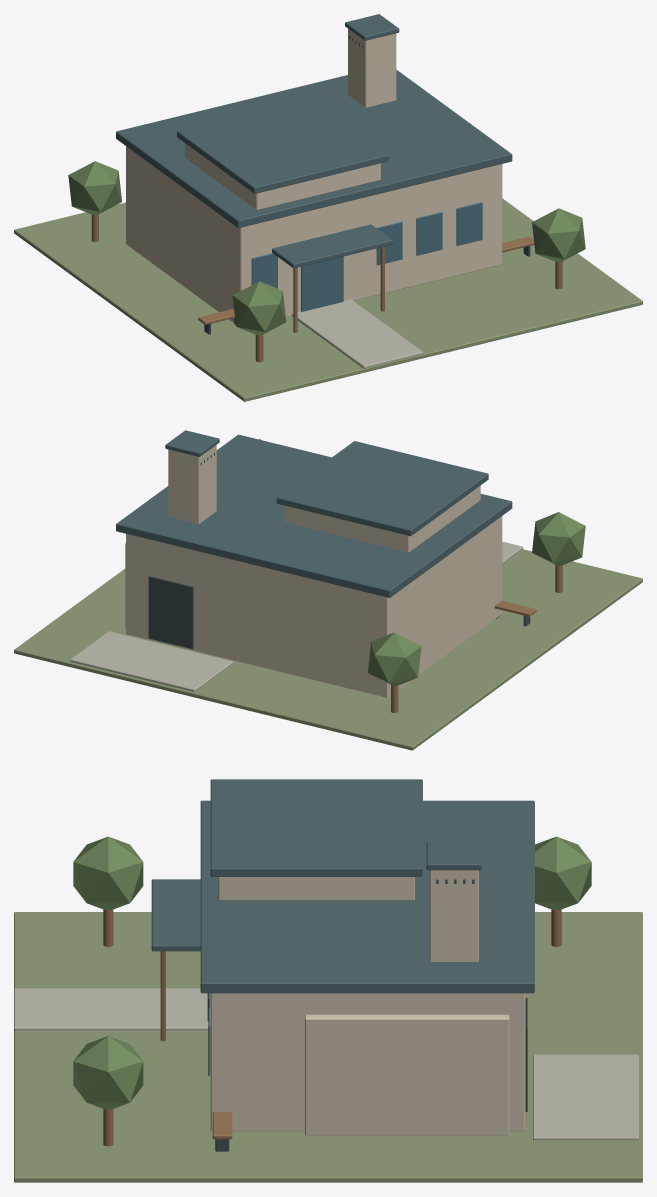
The model's file is crematorium-4x4.glb.
3 renders of one model, top to bottom at view 1: azimuth 30°, elevation 25°; view 2: azimuth 150°, elevation 25°; view 3: azimuth 270°, elevation 25°, orthographic. The views are drawn at different scales.
Parts seen in each view (by area): view 1: Lot, Hall, HallRoof, CeremonyRoof, FrontPath, ScreenedFlue, CeremonyWing, EntryCanopy, Icosphere, Icosphere.001, Icosphere.002, EntranceDoor (+5 smaller); view 2: Hall, Lot, HallRoof, CeremonyRoof, RearServiceApron, ScreenedFlue, CeremonyWing, ServiceDoor, Icosphere.001, Icosphere, FlueCap; view 3: Lot, HallRoof, FurnaceWing, CeremonyRoof, Hall, RearServiceApron, FrontPath, ScreenedFlue, CeremonyWing, Icosphere.002, Icosphere, EntryCanopy (+3 smaller).
Boxes of the visible parts, x1,y1,x2,y2 form: Lot: (14, 198, 642, 401); Hall: (126, 146, 502, 322); HallRoof: (116, 69, 512, 228); CeremonyRoof: (177, 98, 388, 193); FrontPath: (292, 299, 423, 368); ScreenedFlue: (348, 28, 396, 107); CeremonyWing: (185, 143, 380, 209); EntryCanopy: (272, 224, 392, 268); Icosphere: (232, 281, 286, 335); Icosphere.001: (68, 161, 121, 215); Icosphere.002: (532, 208, 585, 262); EntranceDoor: (301, 256, 343, 311); Hall: (126, 516, 502, 697); Lot: (14, 549, 642, 750); HallRoof: (116, 434, 512, 597); CeremonyRoof: (276, 441, 488, 536); RearServiceApron: (70, 631, 233, 691); ScreenedFlue: (168, 445, 216, 523); CeremonyWing: (284, 485, 480, 552); ServiceDoor: (148, 576, 193, 649); Icosphere.001: (367, 632, 421, 686); Icosphere: (532, 512, 585, 565); FlueCap: (165, 430, 219, 456); Lot: (14, 912, 642, 1182); HallRoof: (200, 800, 534, 993); FurnaceWing: (305, 1014, 509, 1135); CeremonyRoof: (210, 779, 422, 876); Hall: (210, 993, 524, 1131); RearServiceApron: (533, 1054, 638, 1140); FrontPath: (14, 988, 210, 1030); ScreenedFlue: (429, 870, 478, 961); CeremonyWing: (218, 877, 414, 899); Icosphere.002: (73, 1036, 143, 1109); Icosphere: (73, 836, 143, 910); EntryCanopy: (151, 879, 200, 951).
Bounding box in the file's own units: 16 × 7.22 × 16.
